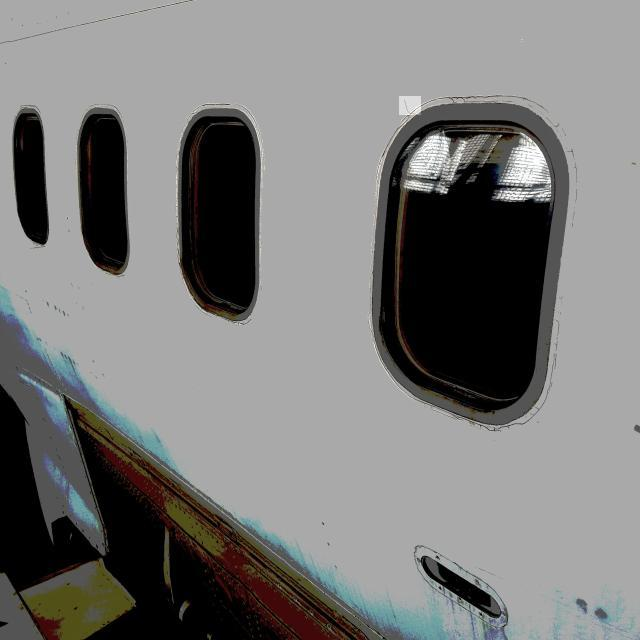crack: (400, 97, 422, 116)
